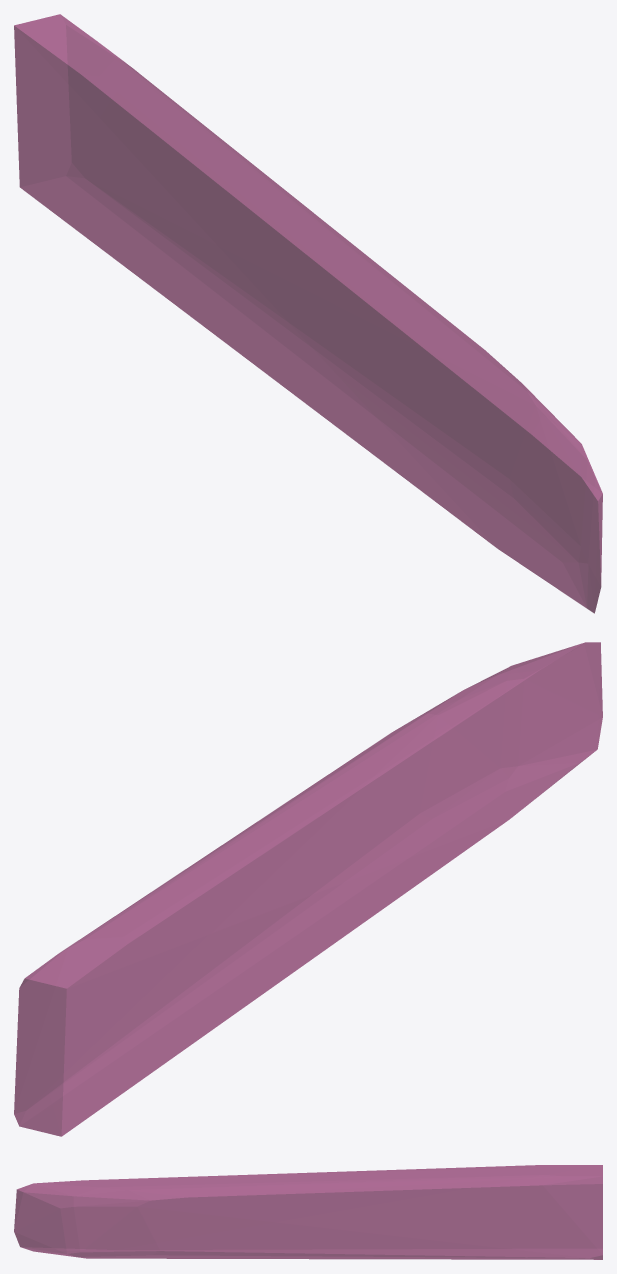
The picture shows the model from 3 angles, top to bottom: view 1: azimuth 30°, elevation 25°; view 2: azimuth 150°, elevation 25°; view 3: azimuth 270°, elevation 25°; orthographic projection. The views are drawn at different scales.
Visible parts, largest first — view 1: Shape_IndexedFaceSet.007_Shape_IndexedFaceSet.3168; view 2: Shape_IndexedFaceSet.007_Shape_IndexedFaceSet.3168; view 3: Shape_IndexedFaceSet.007_Shape_IndexedFaceSet.3168.
Part boxes in pixels (left/top/right/bottom): Shape_IndexedFaceSet.007_Shape_IndexedFaceSet.3168: left=14, top=14, right=602, bottom=613; Shape_IndexedFaceSet.007_Shape_IndexedFaceSet.3168: left=14, top=642, right=602, bottom=1136; Shape_IndexedFaceSet.007_Shape_IndexedFaceSet.3168: left=14, top=1165, right=602, bottom=1259.
Bounding box in the file's own units: 0.0464 × 0.1299 × 0.816.
